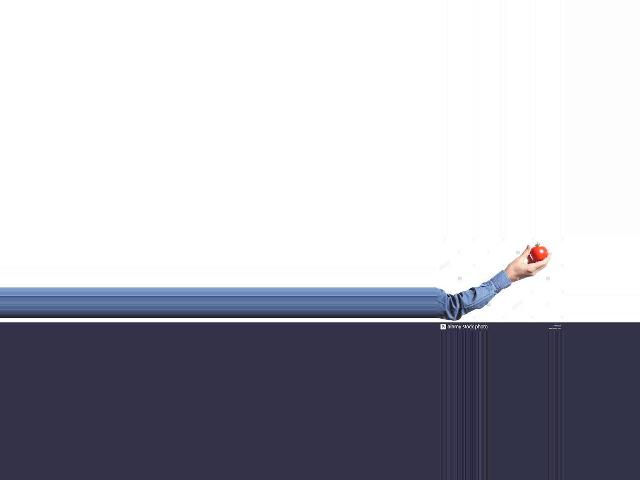tomato: (531, 246, 548, 260)
